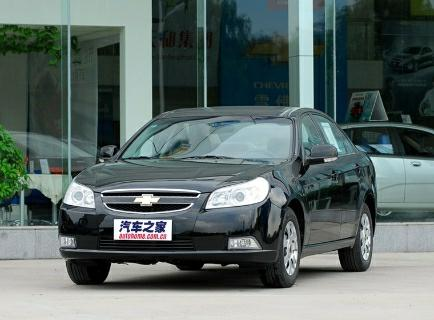car: (43, 100, 380, 301)
